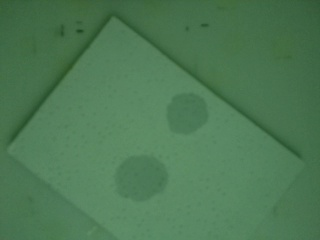Water_detected: (120, 153, 164, 201), (174, 97, 212, 139)
